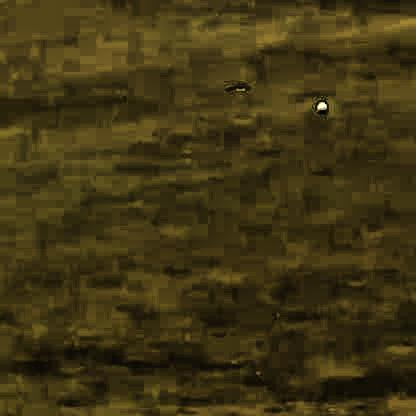golfball: (314, 98, 326, 112)
